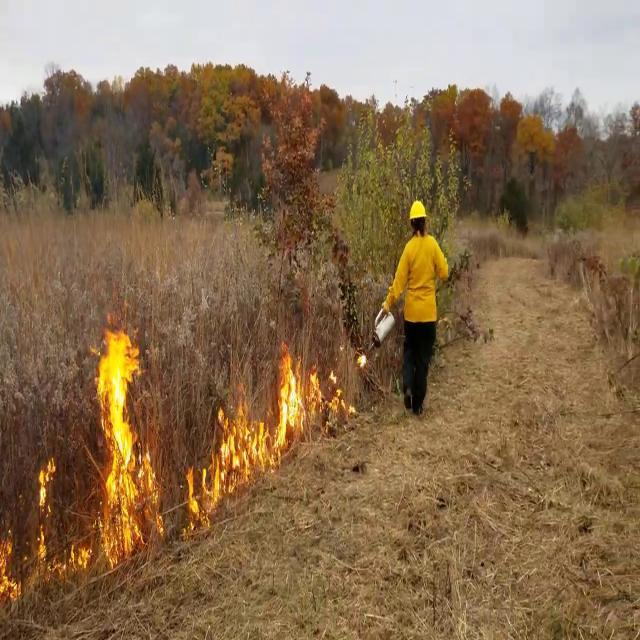Fire: (90, 320, 160, 566), (274, 340, 346, 448), (211, 391, 269, 494), (31, 451, 59, 568), (0, 524, 21, 602)
